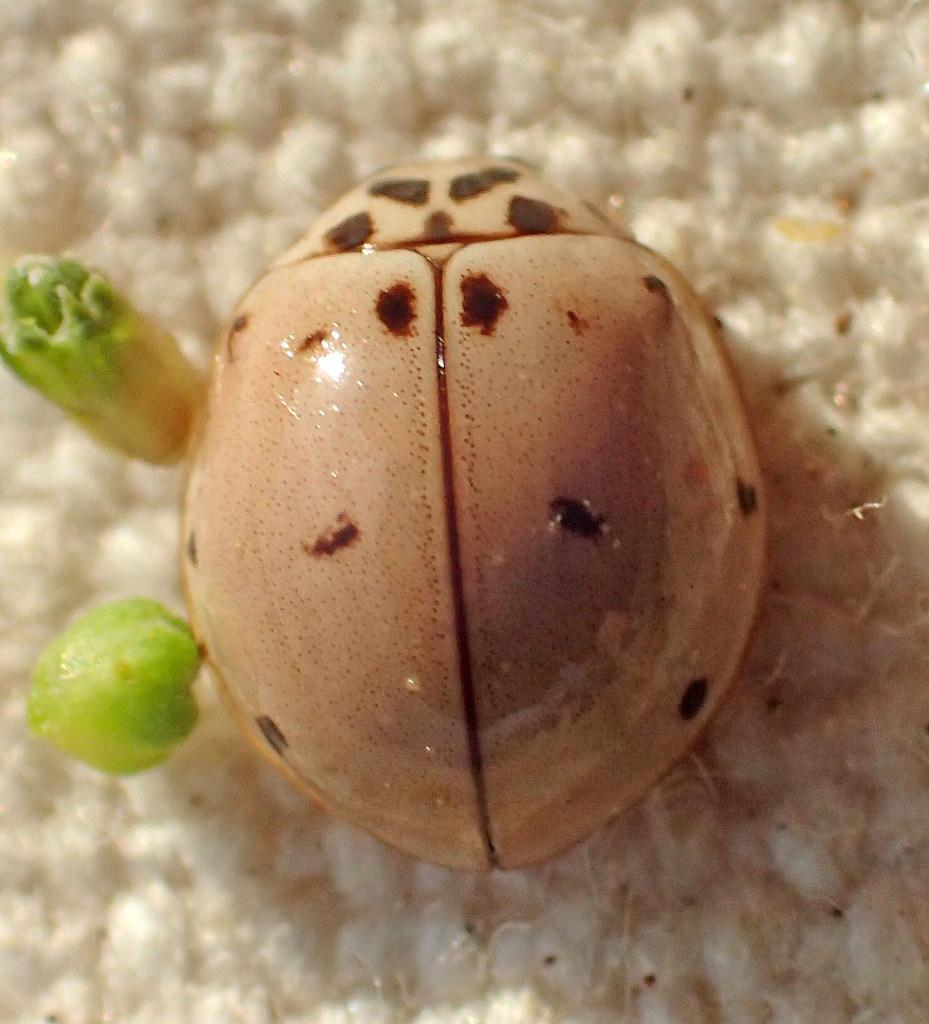ladybug: (171, 146, 784, 879)
